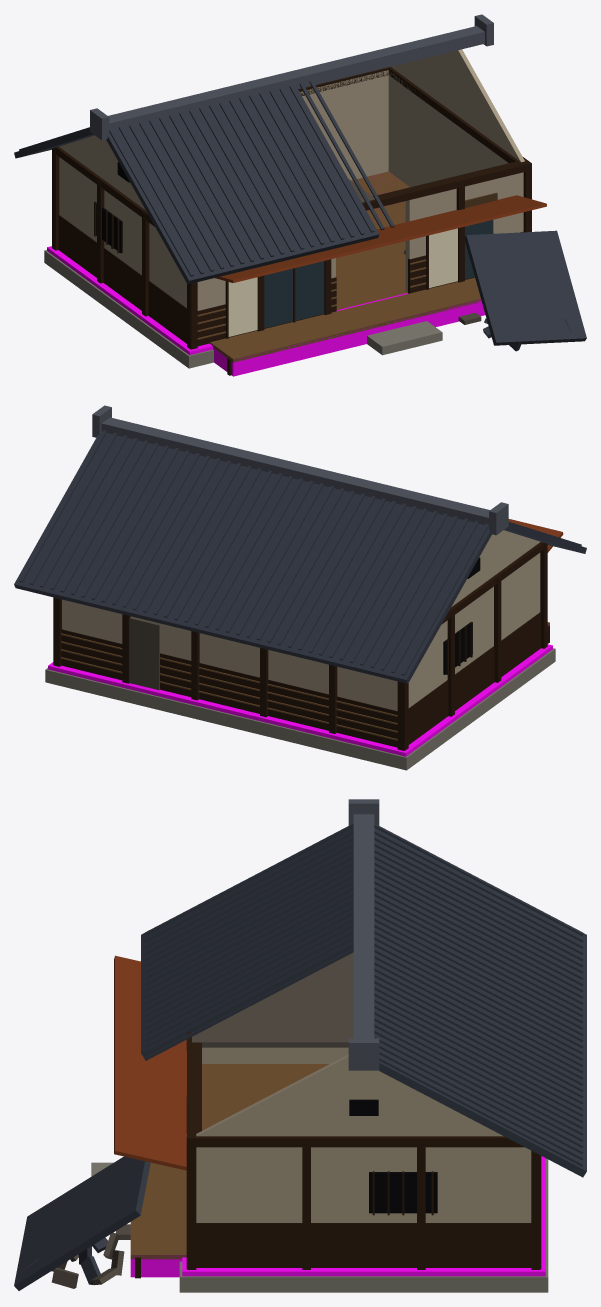
Rendered from Minka_Ruined.fbx.
3 views of the same model, one above another, from view 1: azimuth 30°, elevation 25°; view 2: azimuth 150°, elevation 25°; view 3: azimuth 270°, elevation 25° (orthographic). The views are drawn at different scales.
Visible parts, largest first — view 1: Minka_Ruined, COL_Minka_Ruined_7, COL_Minka_Ruined_5; view 2: Minka_Ruined, COL_Minka_Ruined_5; view 3: Minka_Ruined, COL_Minka_Ruined_5, COL_Minka_Ruined_7.
Boxes of the visible parts, x1=… form: Minka_Ruined: x1=14, y1=14, x2=586, y2=375; COL_Minka_Ruined_7: x1=211, y1=299, x2=485, y2=376; COL_Minka_Ruined_5: x1=47, y1=174, x2=408, y2=355; Minka_Ruined: x1=14, y1=405, x2=586, y2=770; COL_Minka_Ruined_5: x1=48, y1=644, x2=552, y2=756; Minka_Ruined: x1=14, y1=799, x2=586, y2=1292; COL_Minka_Ruined_5: x1=182, y1=1156, x2=545, y2=1276; COL_Minka_Ruined_7: x1=130, y1=1255, x2=186, y2=1277.
Size of the model in its own units: 11.74 by 6.12 by 11.66.
